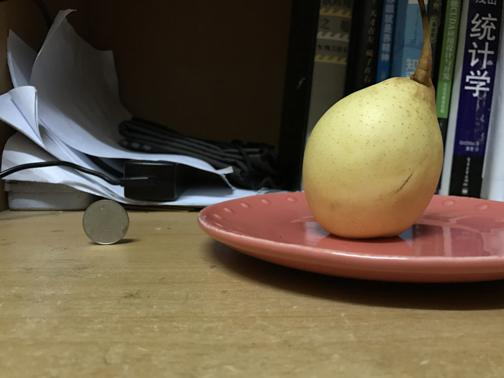coin: (78, 197, 129, 244)
pear: (304, 76, 443, 236)
